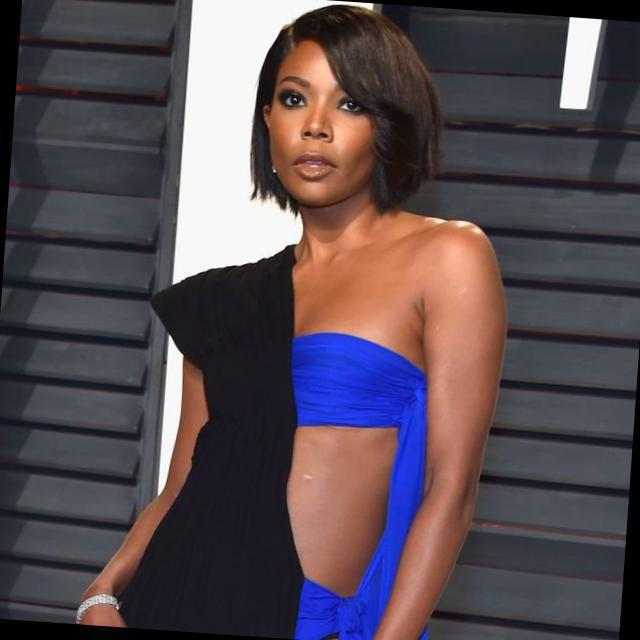Sober: (268, 56, 370, 191)
